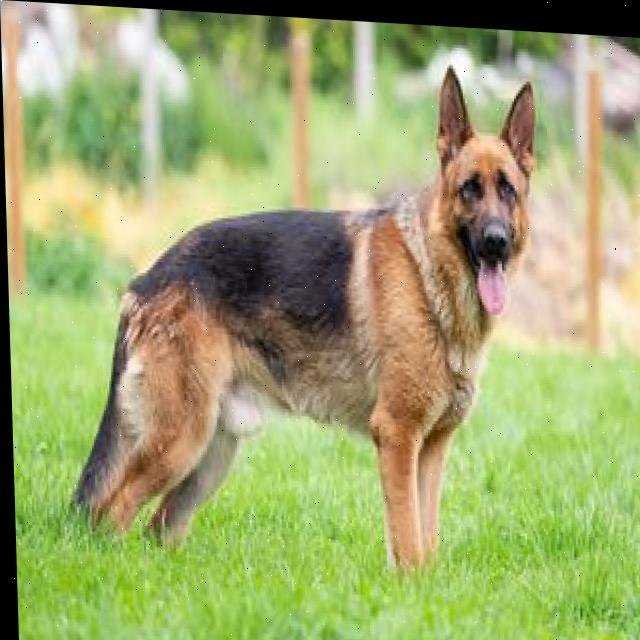GERMAN_SHEPHERD: (43, 20, 579, 591)
